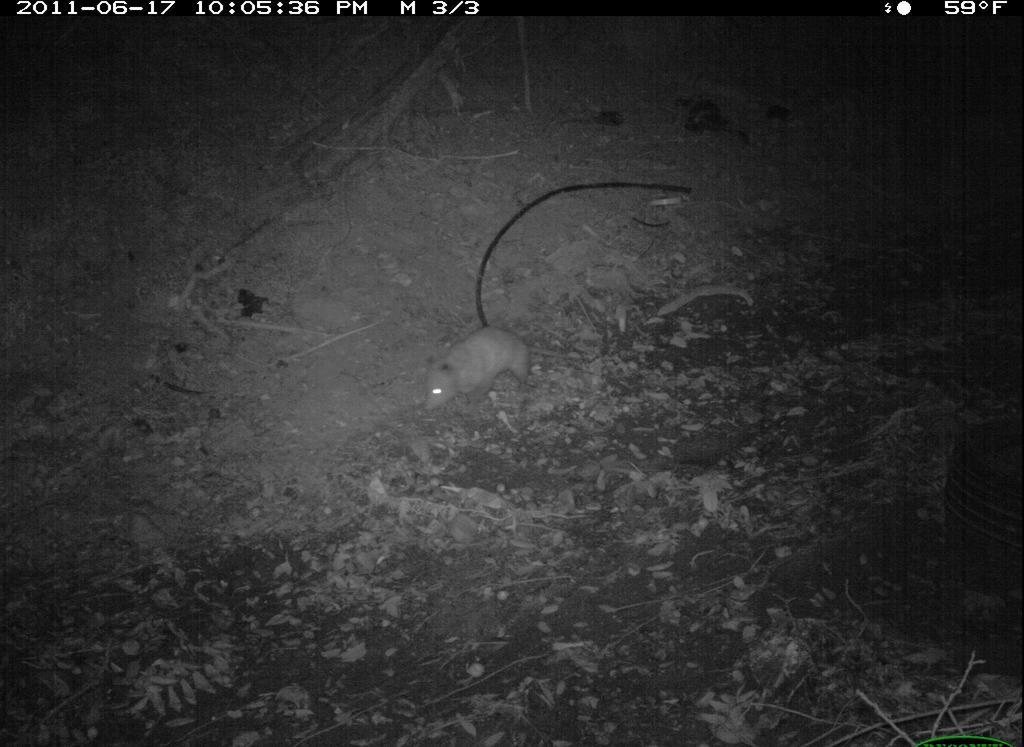opossum: (415, 312, 548, 422)
